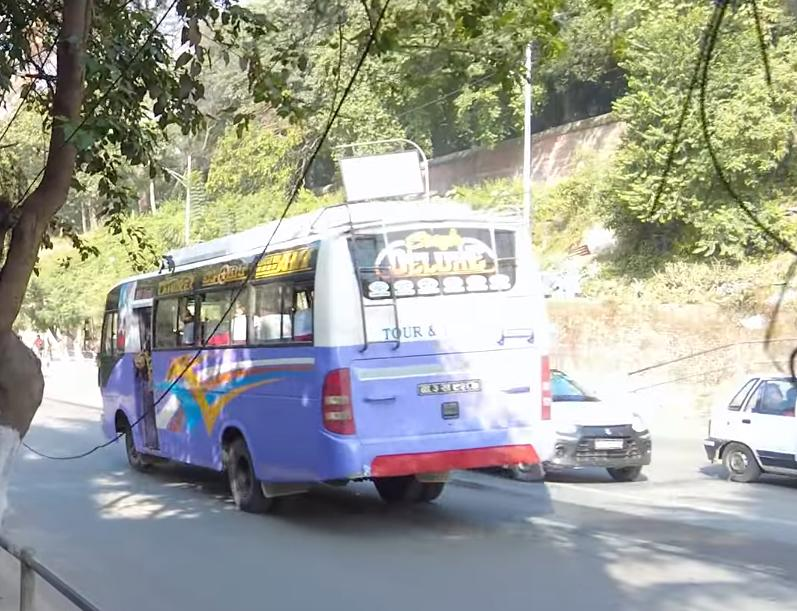bus: (93, 189, 570, 521)
